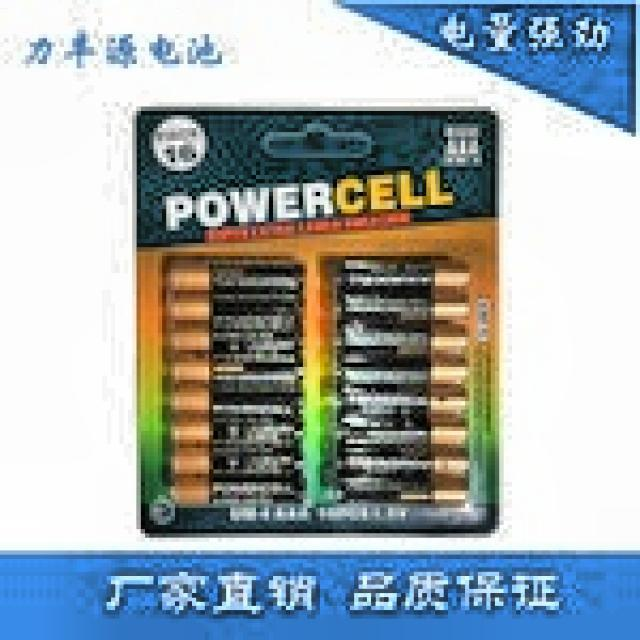battery: (137, 113, 494, 534)
